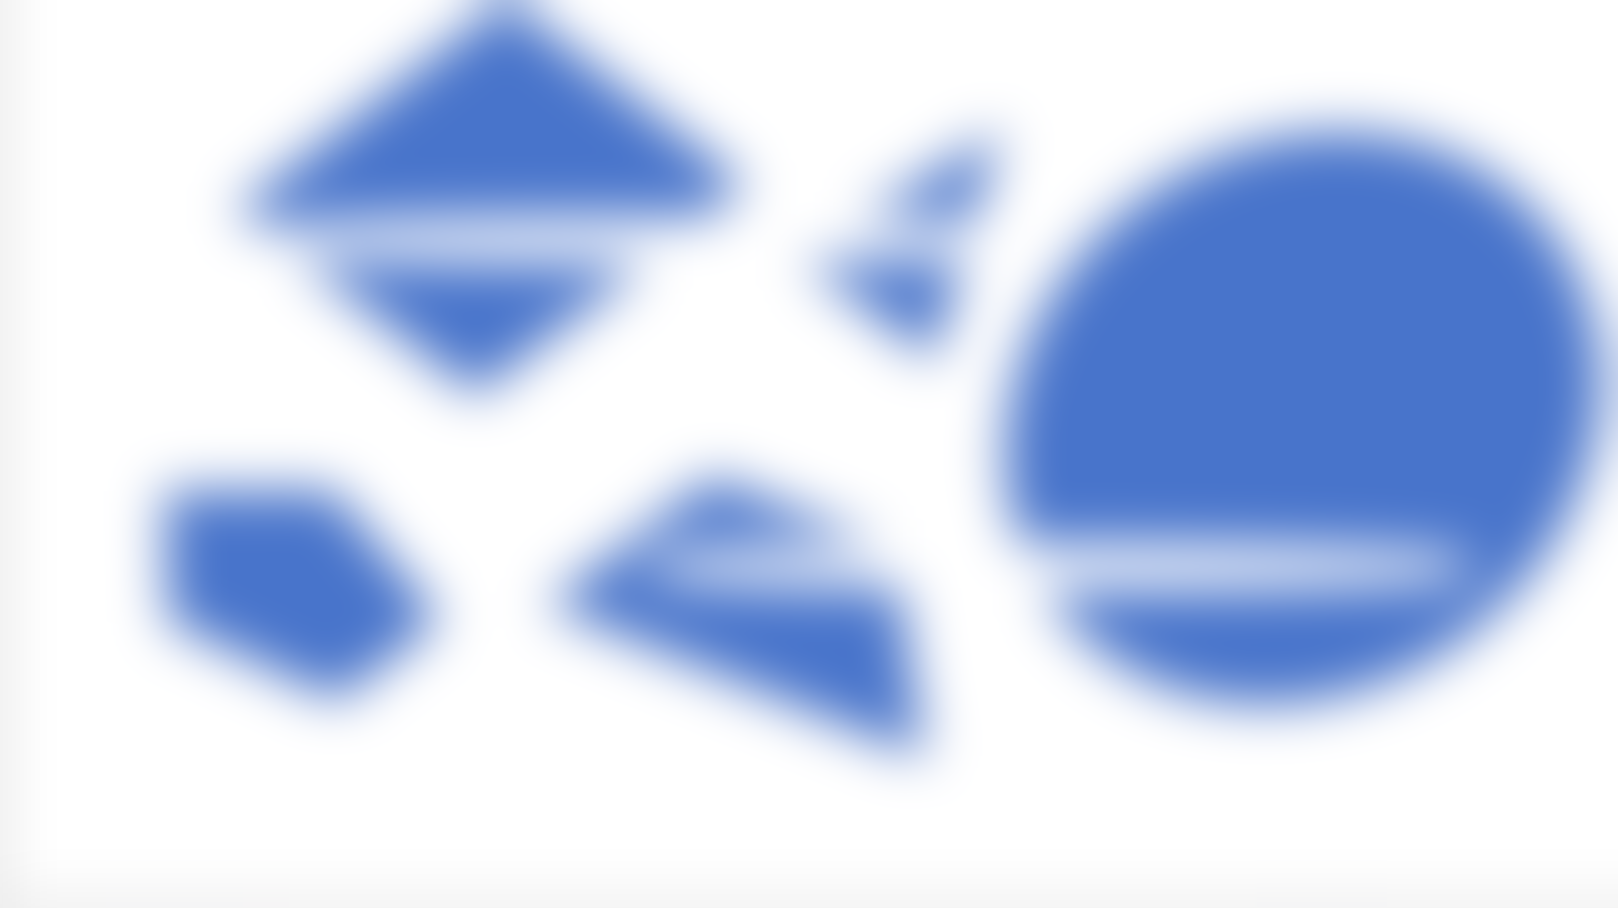circle: (963, 104, 1595, 741)
parallelogram: (217, 13, 777, 401)
pentagon: (146, 460, 471, 739)
trapezium: (585, 445, 979, 789)
triangle: (815, 132, 1008, 345)
